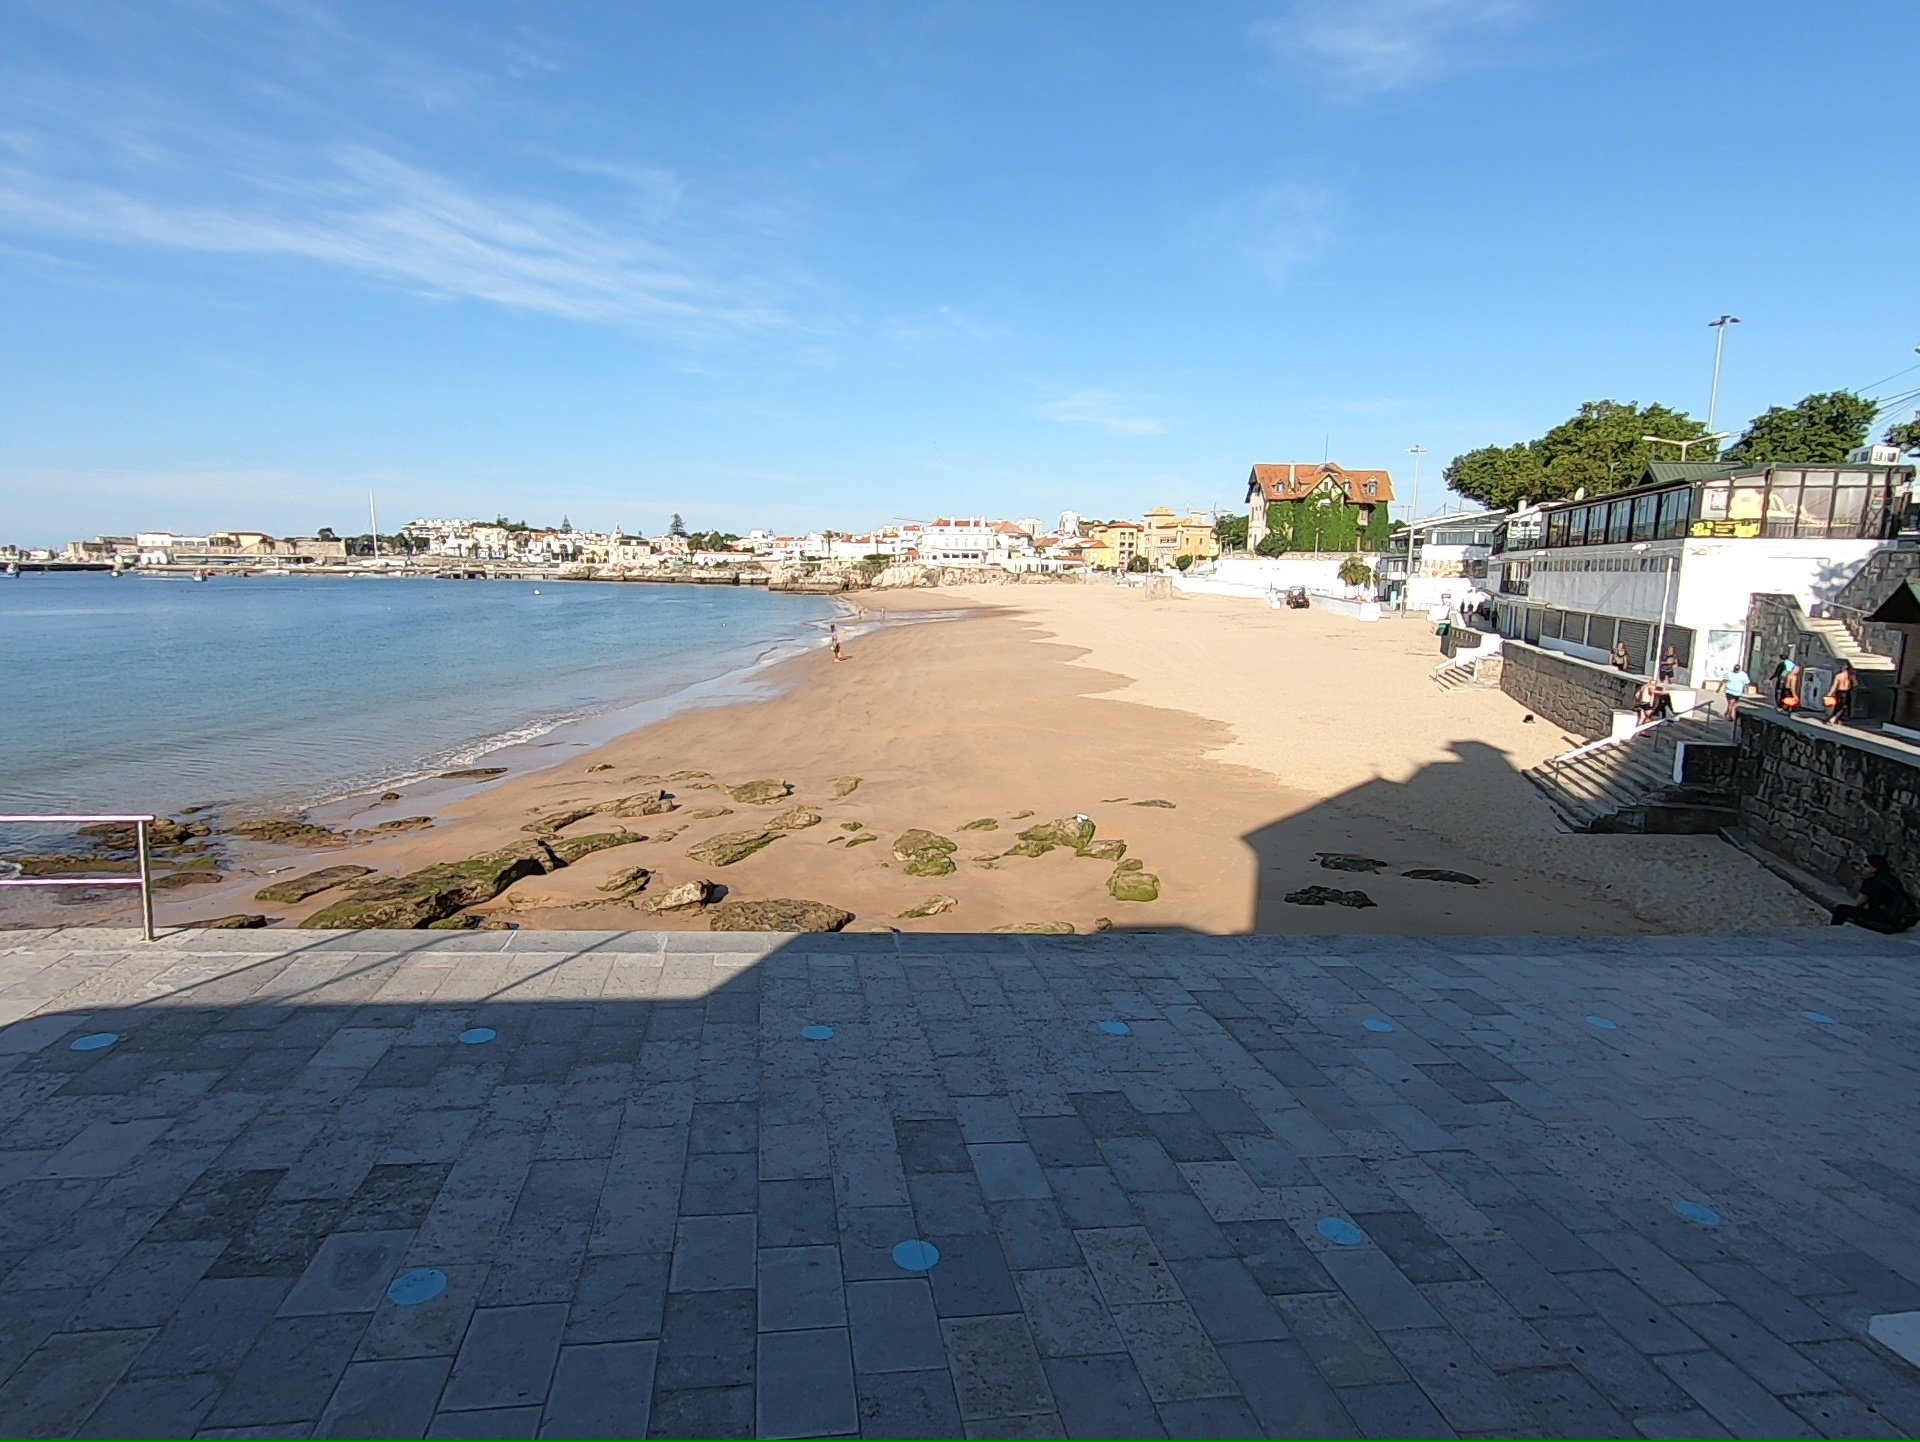person: (1830, 848, 1915, 932), (1721, 661, 1749, 715), (1829, 665, 1854, 723), (1779, 662, 1801, 716), (1659, 645, 1680, 685), (1636, 678, 1656, 716), (1611, 639, 1626, 672), (830, 636, 841, 663), (830, 622, 834, 632), (858, 608, 861, 615)
